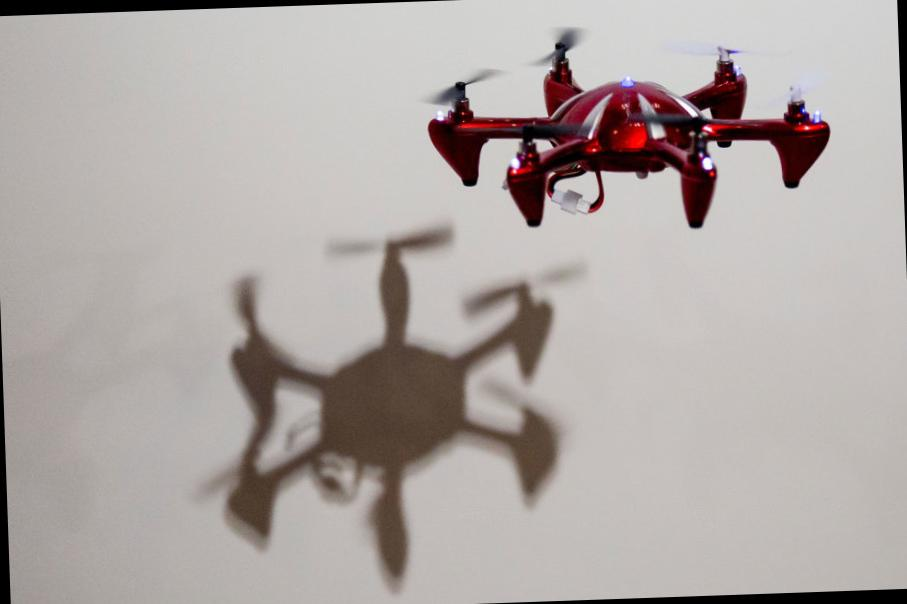drone: (428, 34, 852, 238)
